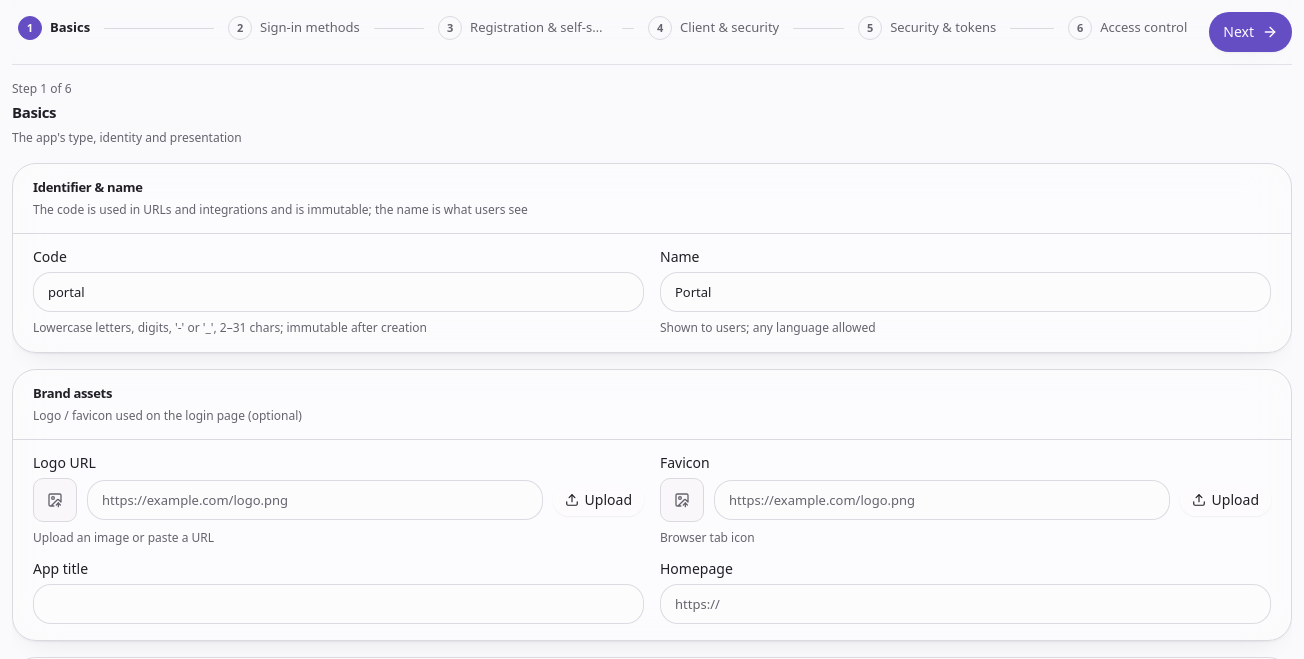
ApplicationWizard › 访问授权只在第 6 步出现：默认「全员可访问」，关闭后才是三类主体选择器
Check: the text "Access authorization" is not shown
Step 1. Click the button "6 Access control" → point(1128, 28), box left=1062, top=12, right=1193, bottom=44
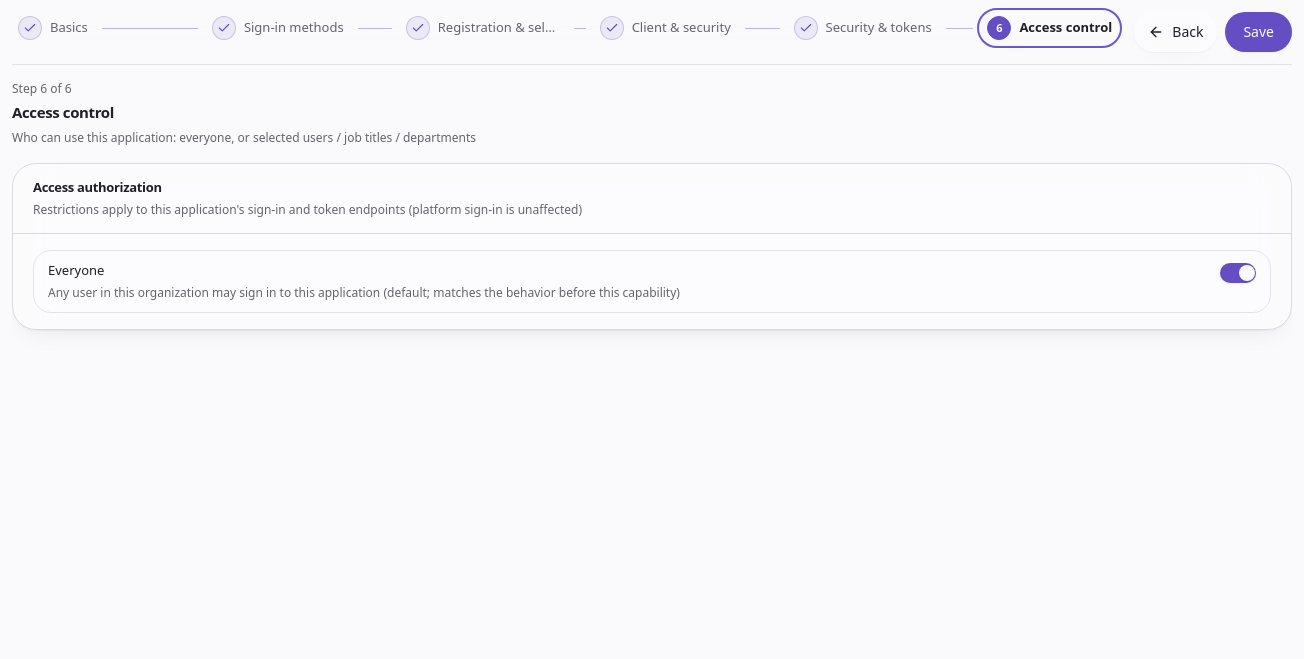
Check: the heading "Access authorization" is shown, box left=33, top=178, right=162, bottom=196
Check: the text "Everyone" is shown, box left=48, top=261, right=104, bottom=279
